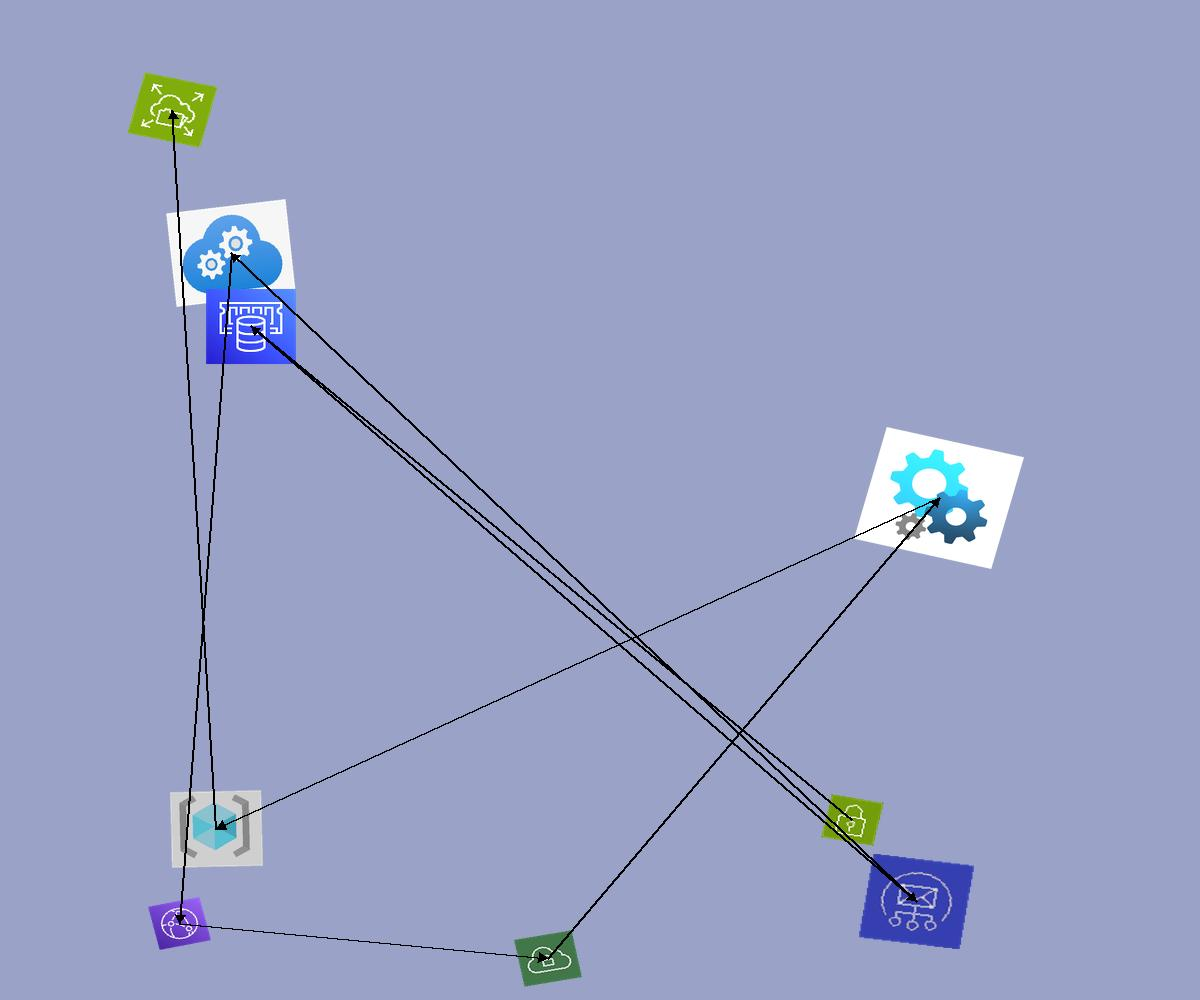AWS-CloudFront: (148, 897, 211, 950)
AWS-EFS: (127, 72, 218, 148)
AWS-ElastiCache: (205, 288, 297, 365)
AWS-Private_vpc: (514, 930, 582, 987)
AWS-Public-subnet: (821, 794, 884, 846)
AWS-Simple-Email-Service: (858, 853, 975, 950)
Azure_api: (854, 427, 1024, 569)
Azure_cloud_services: (166, 199, 296, 307)
Azure_resource_group: (170, 790, 263, 868)
